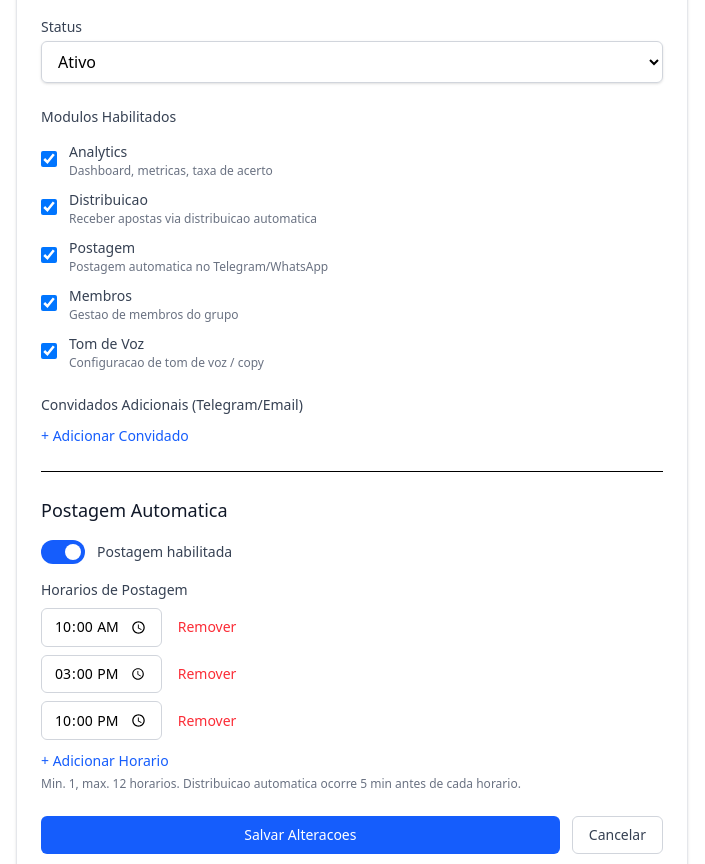
Test: GroupEditPage › shows error message on API error
(page scrolled)
Click the button "Salvar Alteracoes" at (300, 835), box [41, 816, 560, 854]
(page scrolled)
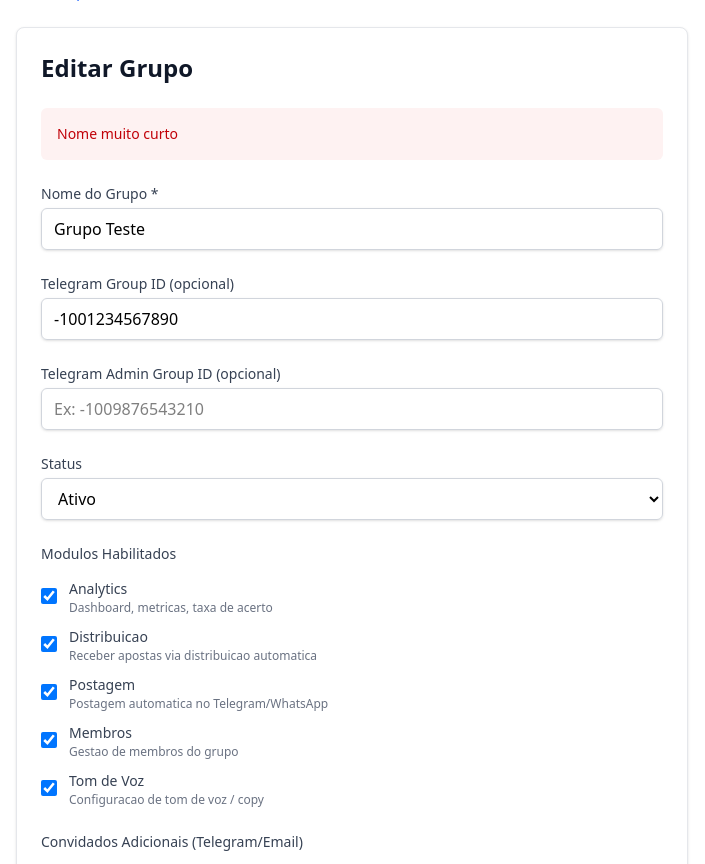
Check: the text "Nome muito curto" is shown, box [57, 124, 178, 143]
